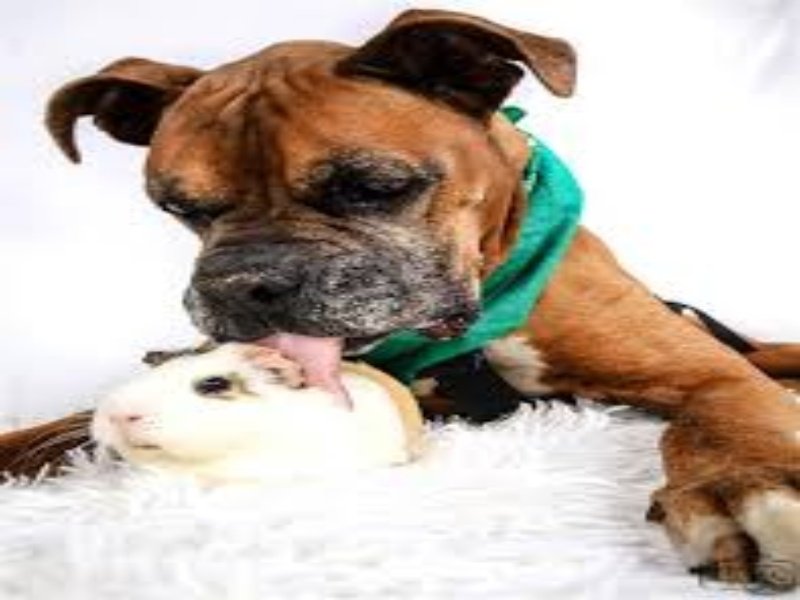dog: (40, 4, 631, 373)
